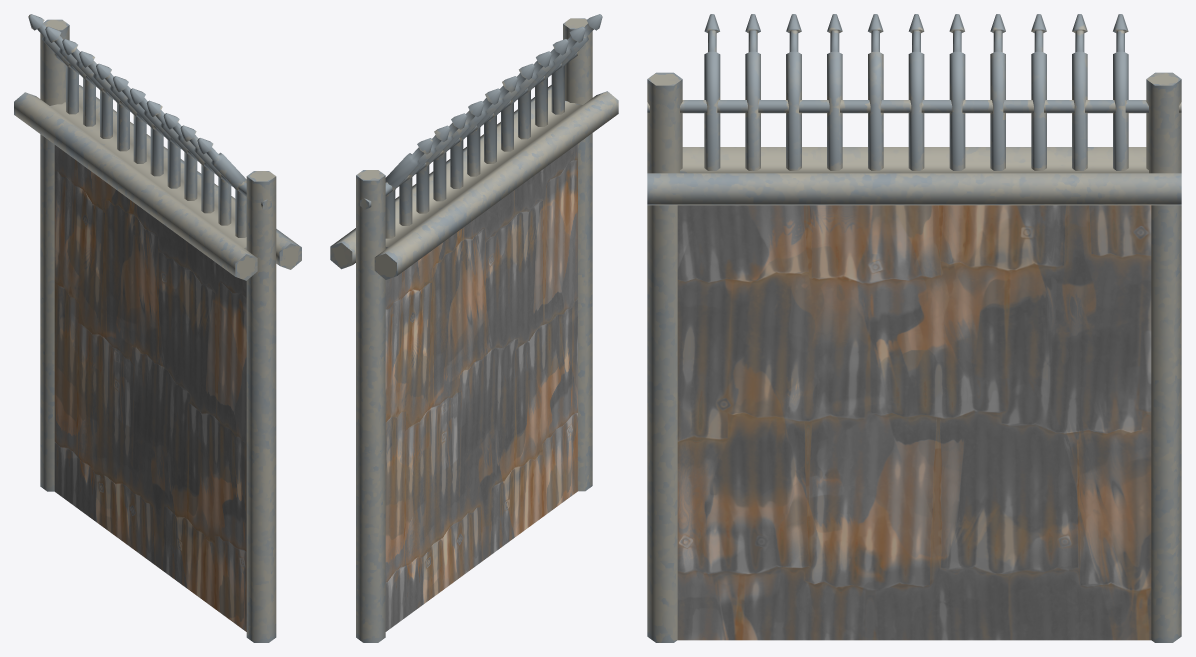
File: MetalFence.fbx
3 renders of one model, left to right at view 1: azimuth 30°, elevation 25°; view 2: azimuth 150°, elevation 25°; view 3: azimuth 270°, elevation 25°, orthographic. The views are drawn at different scales.
Visible parts, largest first — view 1: Plane.003; view 2: Plane.003; view 3: Plane.003.
Part boxes in pixels (box(x1,y1,x2,y2)): Plane.003: box(14, 14, 301, 642); Plane.003: box(330, 14, 618, 642); Plane.003: box(647, 14, 1181, 642).
Bounding box in the file's own units: 0.5292 × 3.25 × 2.63.
